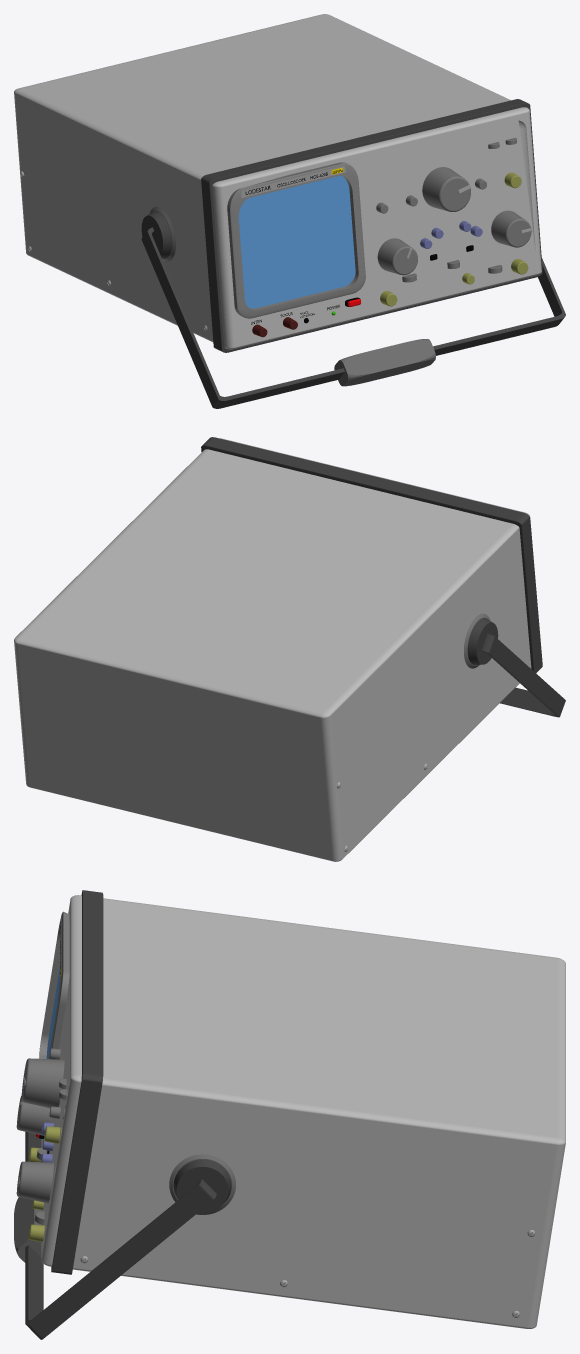
File: Oscilloscope.fbx
3 renders of one model, top to bottom at view 1: azimuth 30°, elevation 25°; view 2: azimuth 150°, elevation 25°; view 3: azimuth 270°, elevation 25°, orthographic. The views are drawn at different scales.
Visible parts, largest first — view 1: Cube.002, Cube.012, Cube.013, Cube.014, Cube.001, Cube.015, Cylinder, Cylinder.016, Cylinder.009, Cylinder.027, Grid.016; view 2: Cube.002, Cube.013, Cube.014, Cylinder.027; view 3: Cube.002, Cube.013, Cube.014, Cube.001, Cylinder, Cylinder.001, Cylinder.016, Cube.015, Cylinder.009, Cylinder.026.
Part boxes in pixels (x1=…): Cube.002: x1=14, y1=14, x2=541, y2=349; Cube.012: x1=238, y1=176, x2=355, y2=308; Cube.013: x1=201, y1=99, x2=542, y2=352; Cube.014: x1=141, y1=227, x2=565, y2=408; Cube.001: x1=227, y1=162, x2=365, y2=318; Cube.015: x1=334, y1=339, x2=435, y2=386; Cylinder: x1=422, y1=167, x2=470, y2=211; Cylinder.016: x1=491, y1=210, x2=531, y2=247; Cylinder.009: x1=377, y1=238, x2=417, y2=275; Cylinder.027: x1=141, y1=211, x2=171, y2=258; Grid.016: x1=241, y1=165, x2=345, y2=198; Cube.002: x1=14, y1=438, x2=531, y2=861; Cube.013: x1=201, y1=437, x2=542, y2=672; Cube.014: x1=481, y1=634, x2=565, y2=717; Cylinder.027: x1=467, y1=618, x2=498, y2=665; Cube.002: x1=41, y1=895, x2=565, y2=1328; Cube.013: x1=51, y1=890, x2=103, y2=1274; Cube.014: x1=25, y1=1131, x2=216, y2=1339; Cube.001: x1=39, y1=911, x2=69, y2=1058; Cylinder: x1=21, y1=1058, x2=64, y2=1108; Cylinder.001: x1=173, y1=1159, x2=231, y2=1213; Cylinder.016: x1=16, y1=1161, x2=56, y2=1203; Cube.015: x1=14, y1=1197, x2=41, y2=1262; Cylinder.009: x1=16, y1=1096, x2=51, y2=1135; Cylinder.026: x1=169, y1=1154, x2=235, y2=1214.
Size of the model in its own units: 1163 by 706 by 1328.
